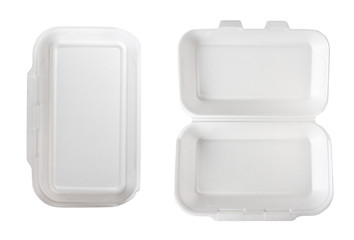styrofoam: (173, 20, 337, 223), (25, 26, 142, 208)
